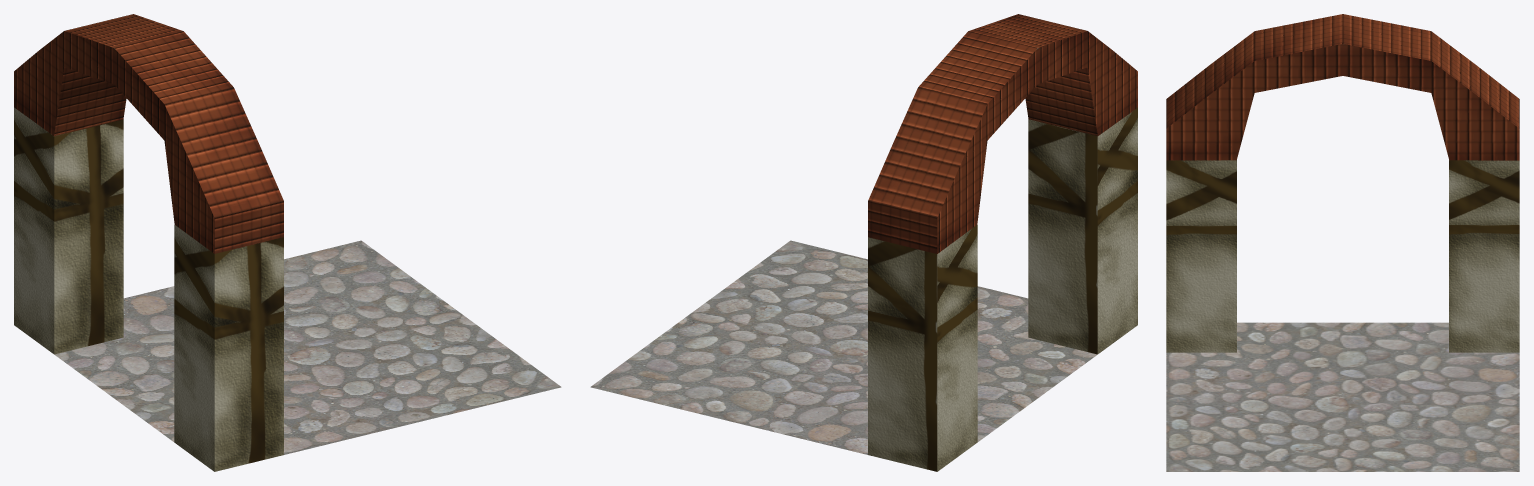
Rendered from 3-5_Teleporter_v1.fbx.
The picture shows the model from 3 angles, left to right: view 1: azimuth 30°, elevation 25°; view 2: azimuth 150°, elevation 25°; view 3: azimuth 270°, elevation 25°; orthographic projection. The views are drawn at different scales.
Visible parts, largest first — view 1: Teleporter_v1; view 2: Teleporter_v1; view 3: Teleporter_v1.
Part boxes in pixels (bbox=[...]): Teleporter_v1: bbox=[14, 14, 561, 471]; Teleporter_v1: bbox=[590, 14, 1137, 471]; Teleporter_v1: bbox=[1166, 14, 1519, 471].
Bounding box in the file's own units: 100 × 96.41 × 100.
2 materials, 2 textured.
